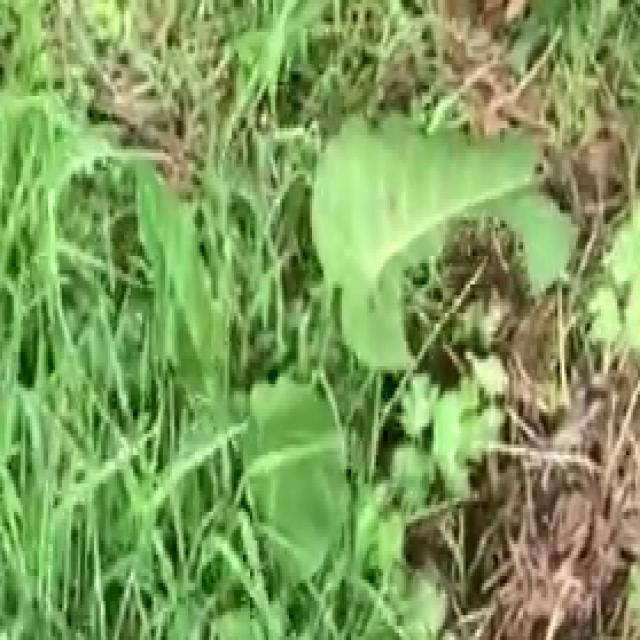organic waste: (128, 75, 612, 629)
